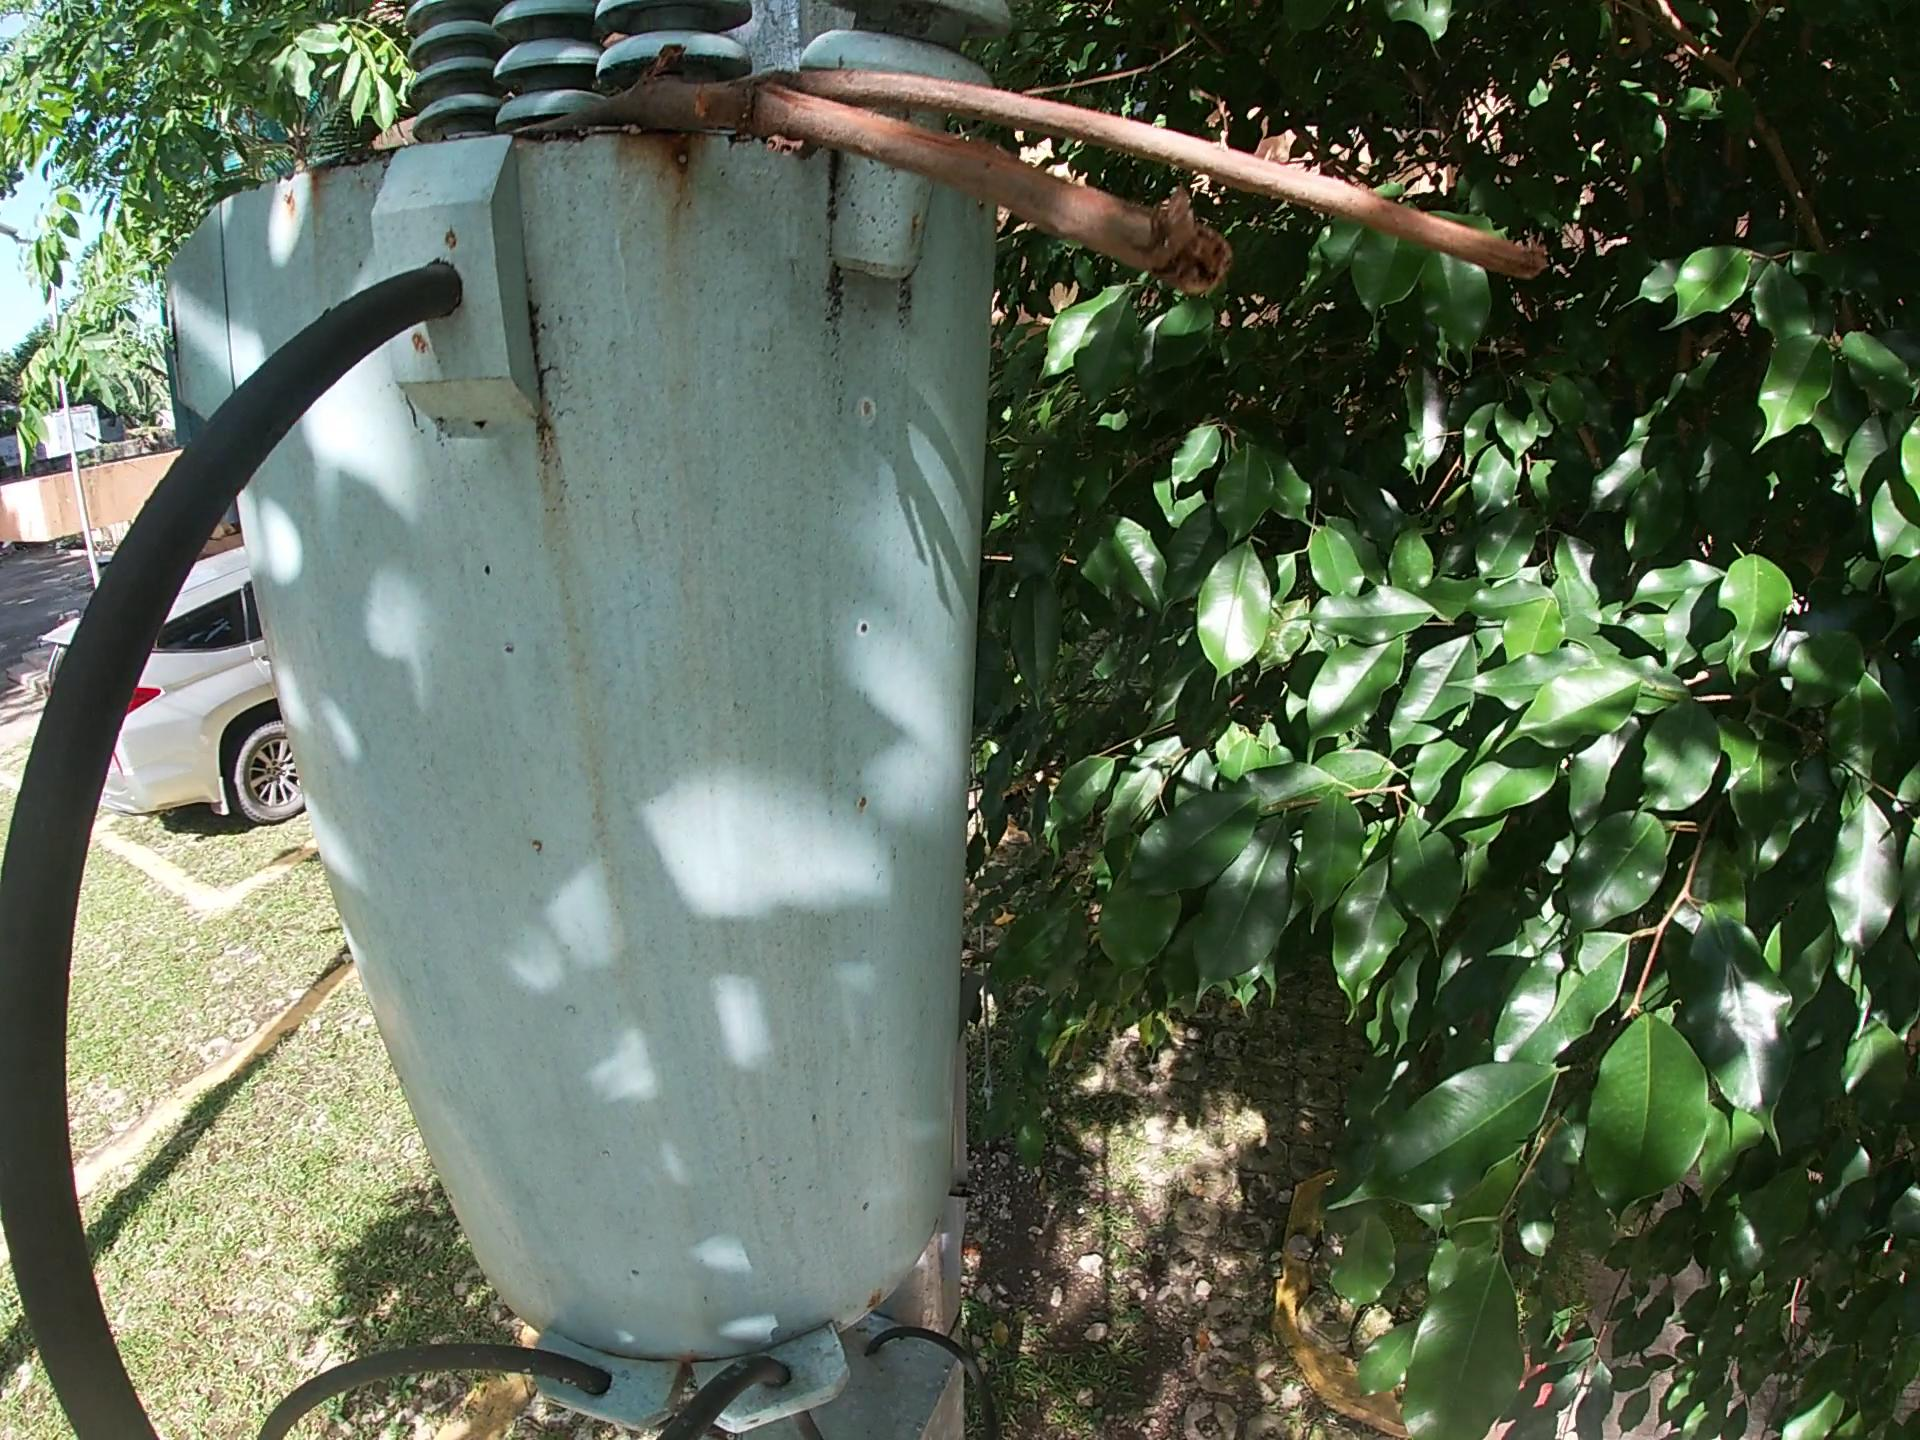tree branch: (484, 54, 1560, 343)
